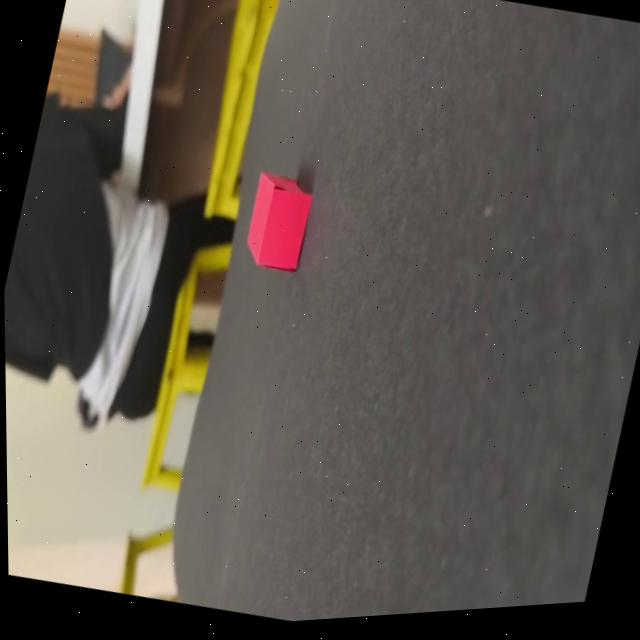red block: (237, 166, 316, 277)
